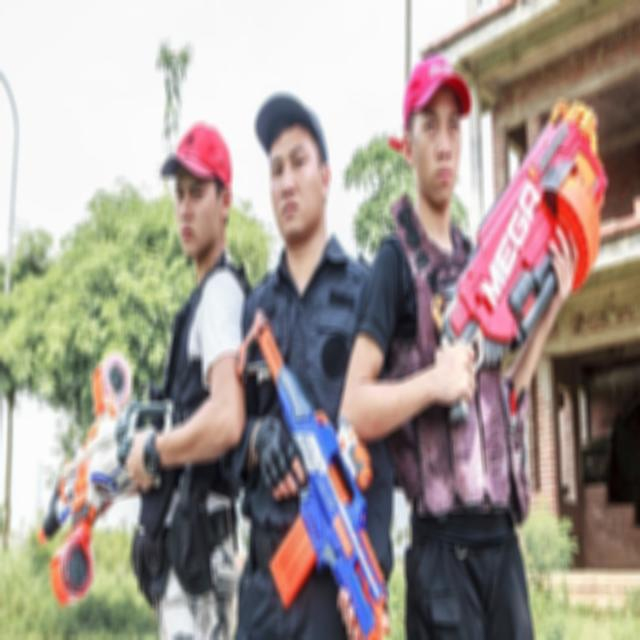Nerf gun: (428, 84, 610, 444), (233, 304, 393, 638), (28, 346, 164, 602)
